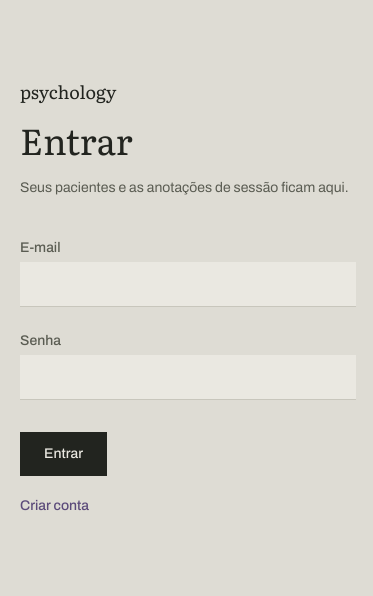
Test: LoginPage › marca o campo culpado quando o registro devolve 400 com erros
Click the button "Criar conta": click(55, 506) [20, 496, 89, 516]
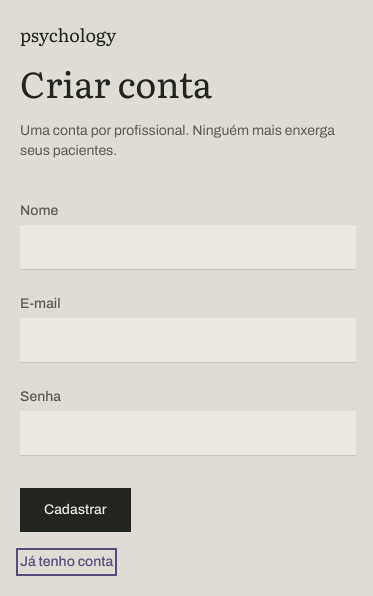
In the field labelled "Nome": (188, 248) [20, 225, 356, 270], type "Ana Moreira"
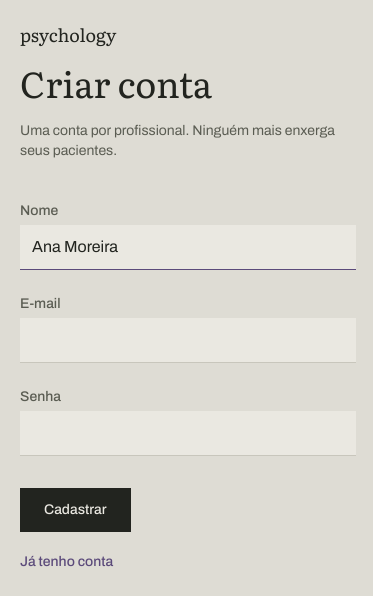
In the field labelled "E-mail": (188, 340) [20, 318, 356, 363], type "ana-arroba-teste"
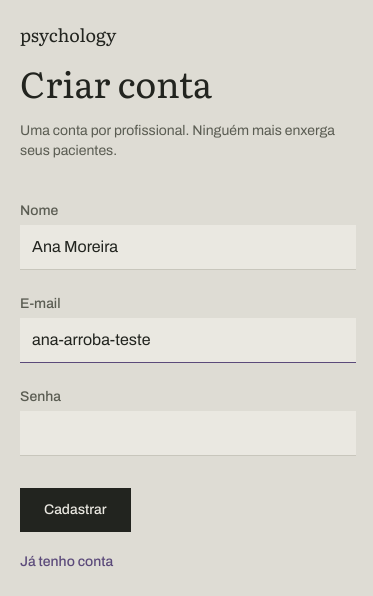
In the password field labelled "Senha": (188, 434) [20, 411, 356, 456], type "senhaforte123"
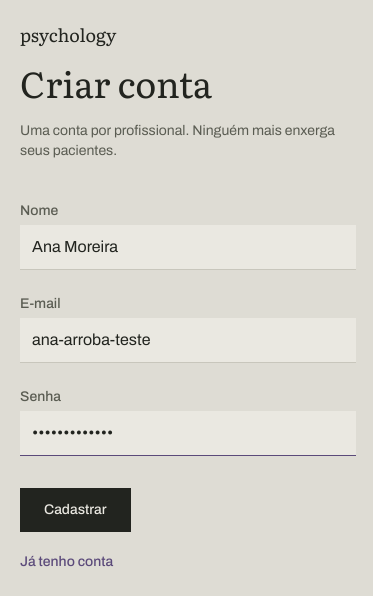
Click the button "Cadastrar": click(75, 510) [20, 488, 130, 532]
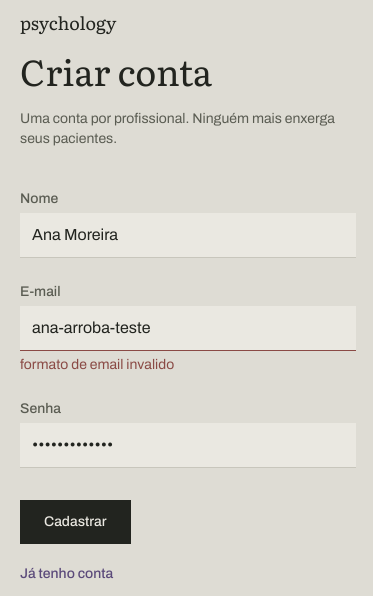
Check: the text "formato de email invalido" is shown, box [20, 357, 174, 372]
